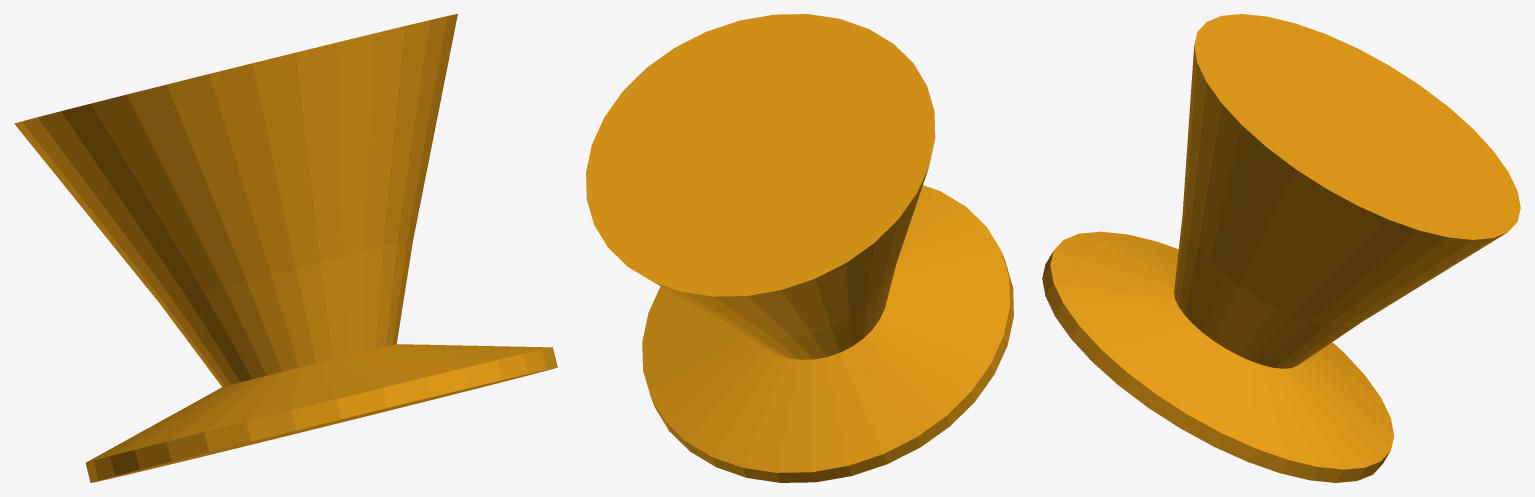
Rendered from linnconcap.glb.
3 renders of one model, left to right at view 1: azimuth 30°, elevation 25°; view 2: azimuth 150°, elevation 25°; view 3: azimuth 270°, elevation 25°, orthographic. The views are drawn at different scales.
Parts seen in each view (by area): view 1: linnconcap; view 2: linnconcap; view 3: linnconcap.
Boxes of the visible parts, x1=… form: linnconcap: x1=14, y1=14, x2=557, y2=482; linnconcap: x1=586, y1=14, x2=1013, y2=482; linnconcap: x1=1042, y1=14, x2=1520, y2=482.
Size of the model in its own units: 0.6226 by 0.7069 by 0.7598.
